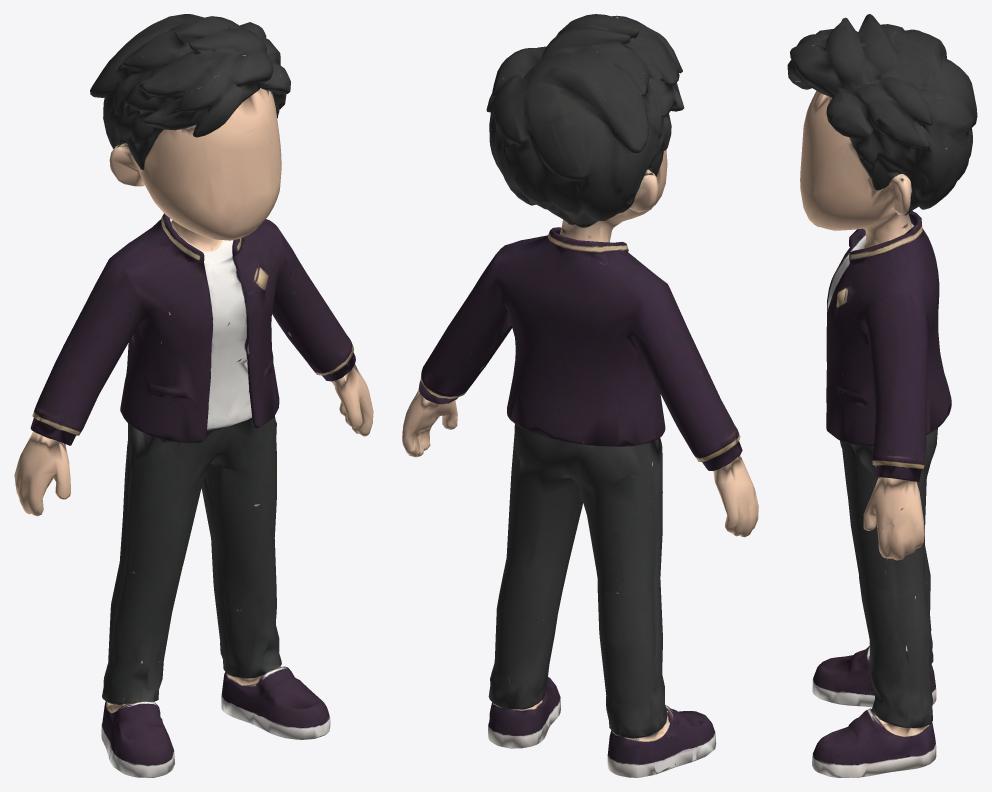
Rendered from male_vip_3d.optimized.glb.
3 views of the same model, side by side, from view 1: azimuth 30°, elevation 25°; view 2: azimuth 150°, elevation 25°; view 3: azimuth 270°, elevation 25° (orthographic).
Bounding box in the file's own units: 0.9757 × 1.9 × 0.4672.
Materials: 1 (1 with a texture image).
